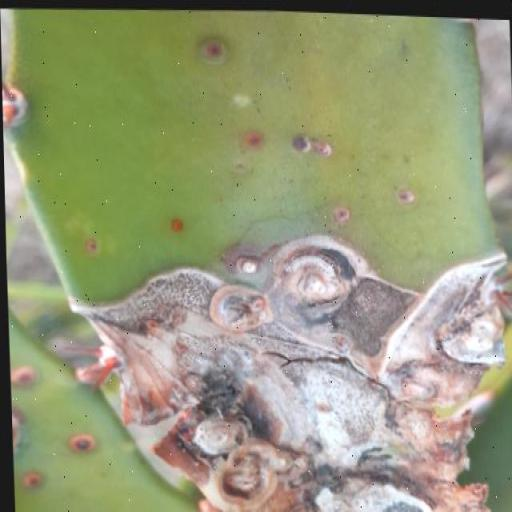stemcanker: (359, 296, 407, 358), (67, 251, 102, 299), (311, 292, 337, 328), (219, 404, 249, 428)
